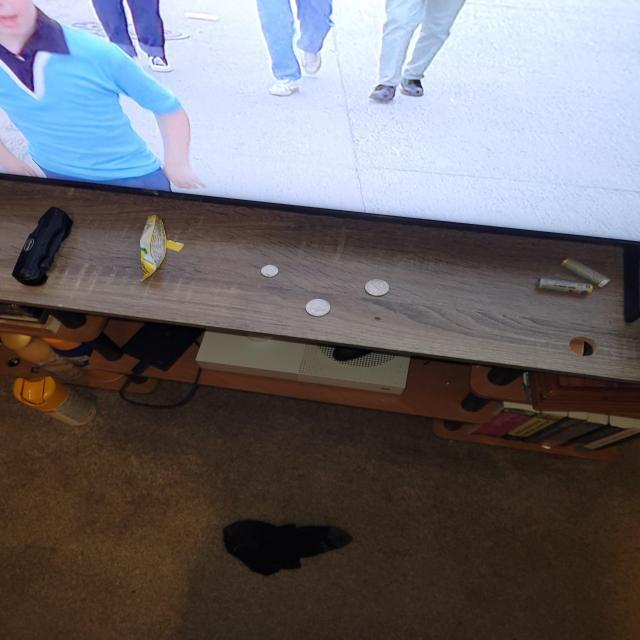Dime: (260, 264, 280, 278)
Quarter: (304, 296, 332, 318), (363, 278, 391, 298)
